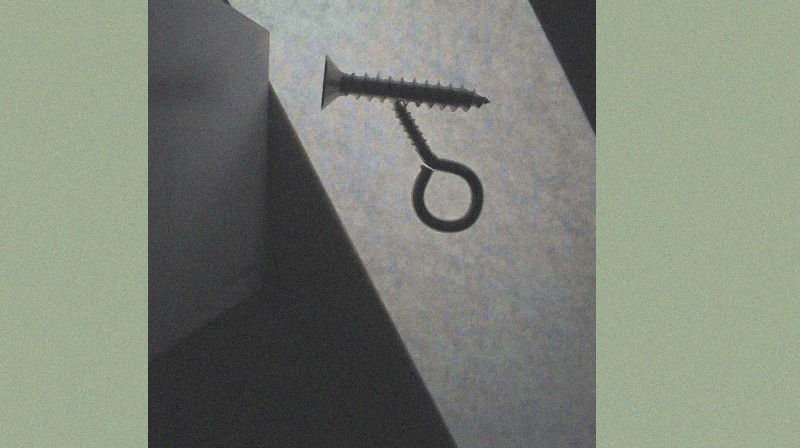O001: (386, 96, 484, 233)
S001: (320, 48, 491, 110)
